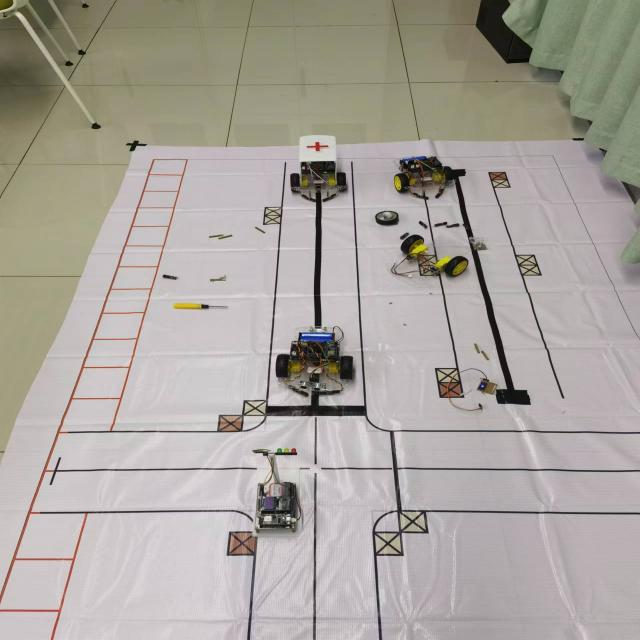RedCross: (304, 141, 329, 153)
